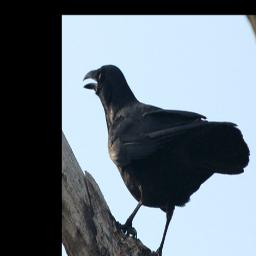Crow: (80, 62, 250, 256)
